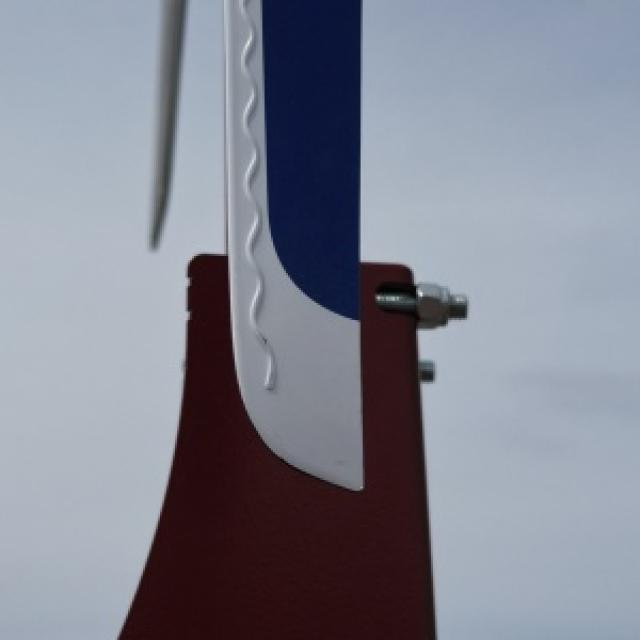healthy: (119, 0, 465, 638)
